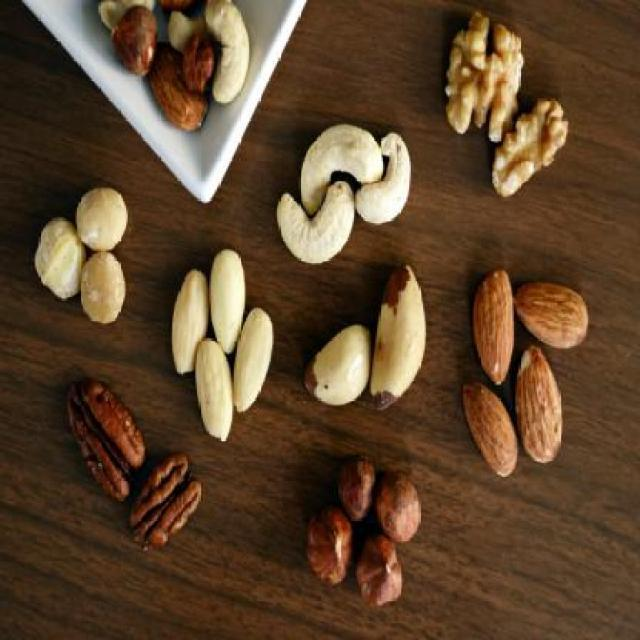Frutta secca: (460, 270, 592, 488), (443, 15, 579, 204), (62, 380, 210, 544), (274, 113, 423, 262), (173, 245, 285, 437), (309, 269, 433, 413), (302, 456, 426, 600), (30, 190, 136, 322)
